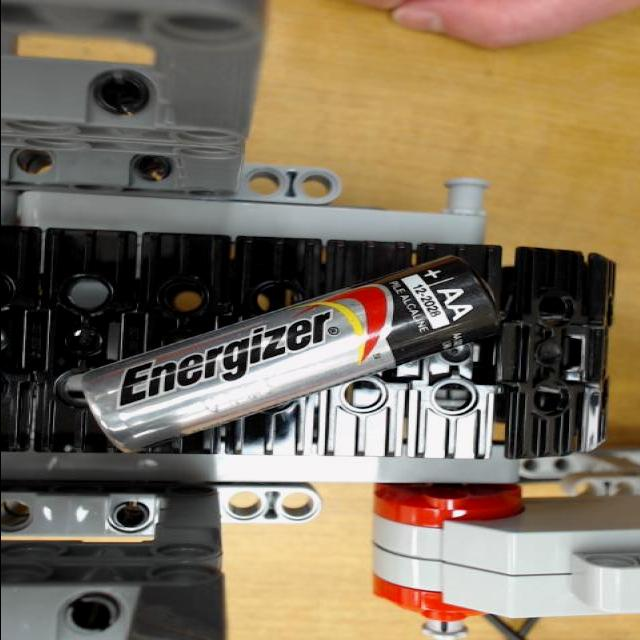AA: (82, 258, 502, 454)
